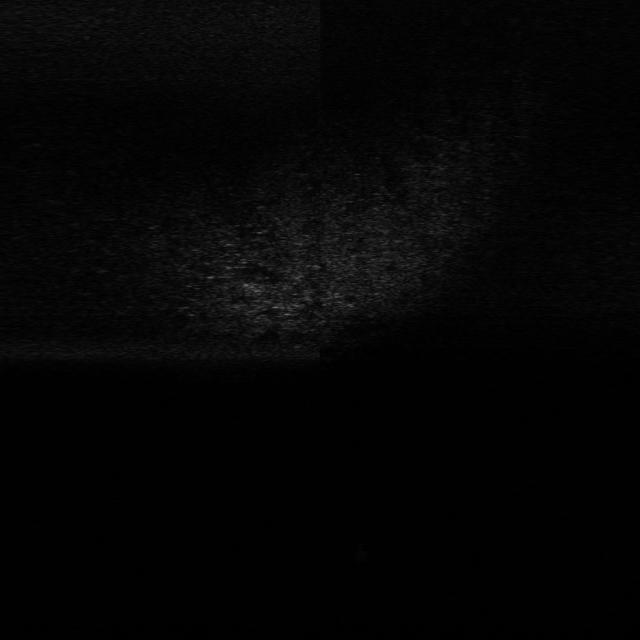cylinder: (353, 539, 371, 565)
